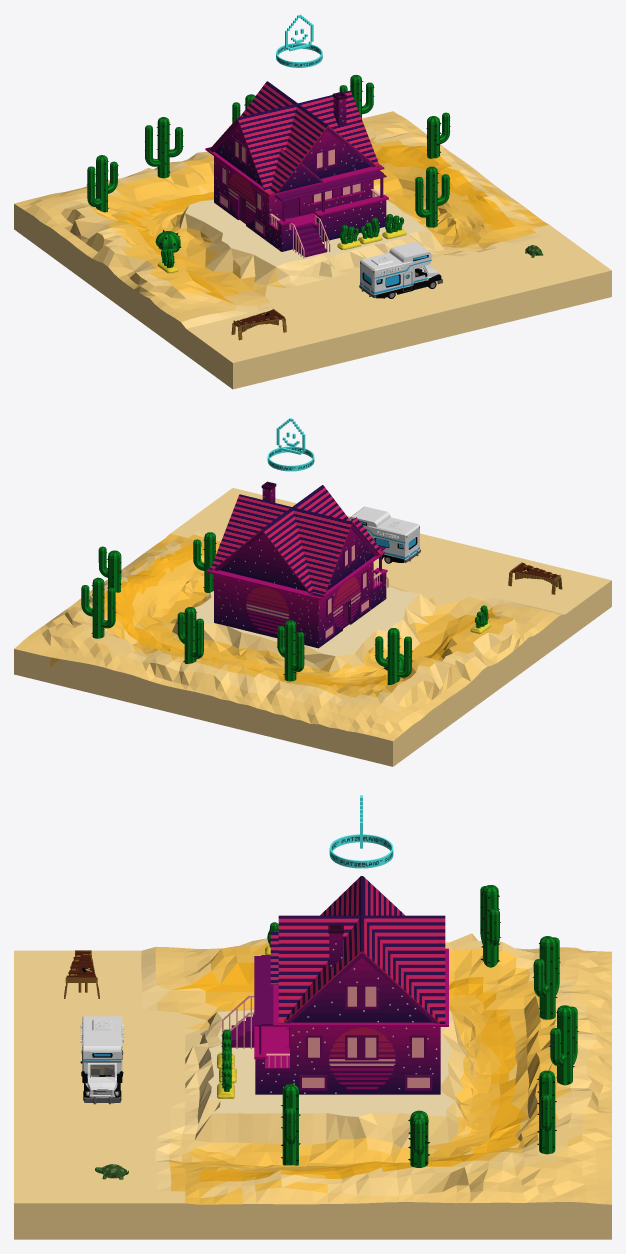
3 renders of one model, top to bottom at view 1: azimuth 30°, elevation 25°; view 2: azimuth 150°, elevation 25°; view 3: azimuth 270°, elevation 25°, orthographic. The views are drawn at different scales.
Visible parts, largest first — view 1: Cube.001, Cube.156, VEHICLES_CAMPER, Cylinder.044, Cylinder.037, Cylinder.045, TYPE_PREMIUM, Cylinder.038, OBJRANDOM_MARIMBA, Cylinder.042; view 2: Cube.001, Cube.156, VEHICLES_CAMPER, Cylinder.042, Cylinder.045, Cylinder.044, Cylinder.043, TYPE_PREMIUM, Cylinder.037, Cylinder.038, OBJRANDOM_MARIMBA; view 3: Cube.001, Cube.156, VEHICLES_CAMPER, Cylinder.044, Cylinder.043, Cylinder.045, Cylinder.042, Cylinder.037, TYPE_PREMIUM, Cylinder.038, OBJRANDOM_MARIMBA.
Boxes of the visible parts, x1=… form: Cube.001: x1=14, y1=111, x2=611, y2=389; Cube.156: x1=205, y1=81, x2=388, y2=258; VEHICLES_CAMPER: x1=359, y1=242, x2=442, y2=298; Cylinder.044: x1=145, y1=117, x2=183, y2=178; Cylinder.037: x1=415, y1=166, x2=449, y2=227; Cylinder.045: x1=87, y1=155, x2=118, y2=212; TYPE_PREMIUM: x1=276, y1=14, x2=322, y2=67; Cylinder.038: x1=426, y1=112, x2=450, y2=158; OBJRANDOM_MARIMBA: x1=231, y1=308, x2=286, y2=340; Cylinder.042: x1=339, y1=75, x2=374, y2=118; Cube.001: x1=14, y1=488, x2=611, y2=766; Cube.156: x1=206, y1=481, x2=388, y2=648; VEHICLES_CAMPER: x1=349, y1=506, x2=420, y2=563; Cylinder.042: x1=81, y1=577, x2=116, y2=638; Cylinder.045: x1=374, y1=628, x2=412, y2=684; Cylinder.044: x1=277, y1=620, x2=304, y2=681; Cylinder.043: x1=177, y1=607, x2=203, y2=663; TYPE_PREMIUM: x1=267, y1=418, x2=314, y2=471; Cylinder.037: x1=193, y1=532, x2=220, y2=592; Cylinder.038: x1=98, y1=546, x2=121, y2=592; OBJRANDOM_MARIMBA: x1=508, y1=562, x2=562, y2=594; Cube.001: x1=14, y1=933, x2=611, y2=1239; Cube.156: x1=222, y1=876, x2=448, y2=1094; VEHICLES_CAMPER: x1=80, y1=1016, x2=123, y2=1104; Cylinder.044: x1=533, y1=936, x2=560, y2=1019; Cylinder.043: x1=549, y1=1005, x2=578, y2=1085; Cylinder.045: x1=480, y1=885, x2=500, y2=967; Cylinder.042: x1=537, y1=1070, x2=556, y2=1154; Cylinder.037: x1=281, y1=1084, x2=300, y2=1165; TYPE_PREMIUM: x1=329, y1=795, x2=393, y2=868; Cylinder.038: x1=408, y1=1110, x2=429, y2=1167; OBJRANDOM_MARIMBA: x1=64, y1=950, x2=99, y2=998.
Size of the model in its own units: 4002 by 2589 by 4001.
38 materials, 5 textured.
